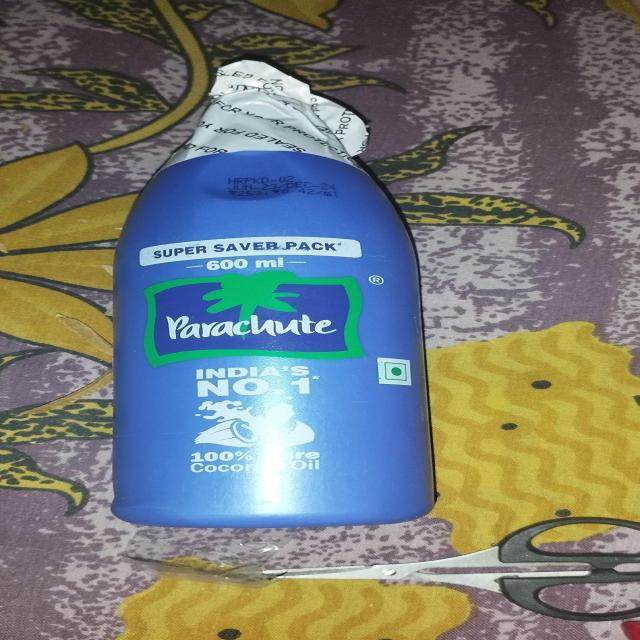parachute_oil: (99, 58, 454, 532)
